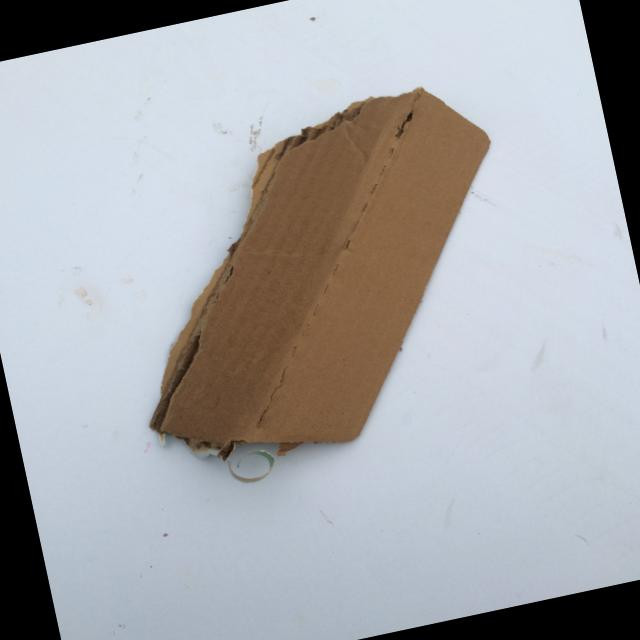Cardboard: (100, 60, 570, 500)
